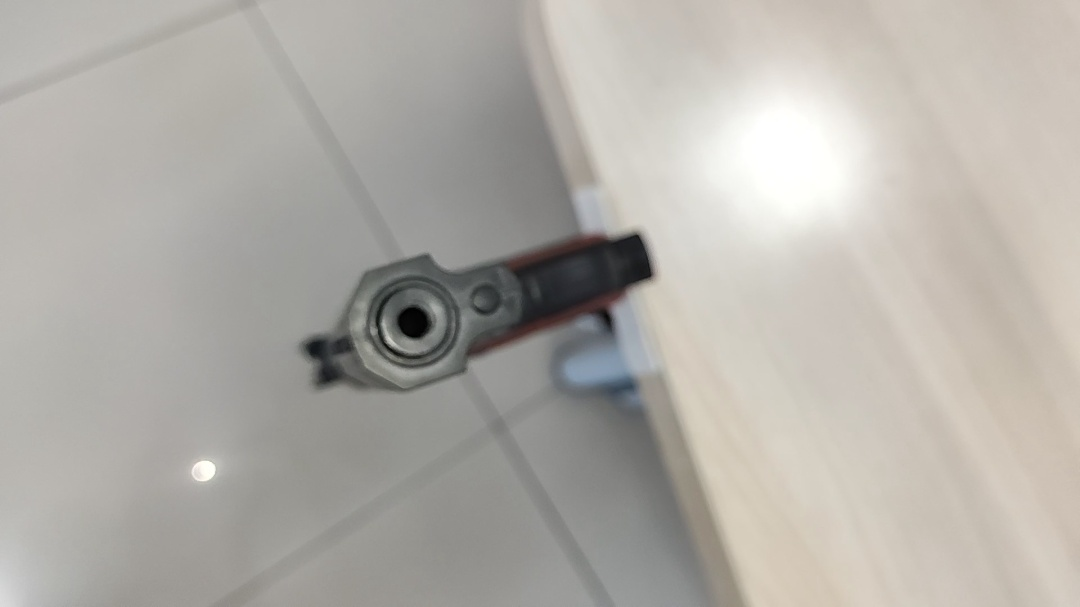gun: (255, 131, 649, 498)
